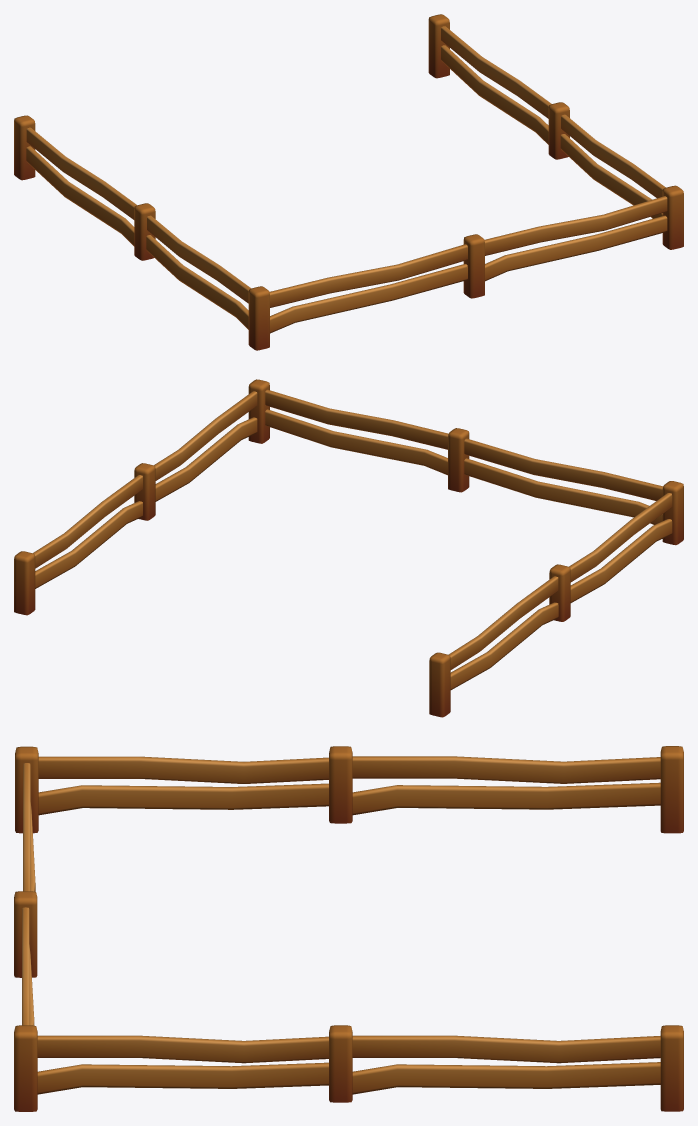
File: Forest_Cerca.fbx
3 views of the same model, one above another, from view 1: azimuth 30°, elevation 25°; view 2: azimuth 150°, elevation 25°; view 3: azimuth 270°, elevation 25° (orthographic). The views are drawn at different scales.
Visible parts, largest first — view 1: Cube.010; view 2: Cube.010; view 3: Cube.010.
Boxes of the visible parts, bbox=[...] form: Cube.010: bbox=[14, 14, 683, 350]; Cube.010: bbox=[14, 379, 683, 717]; Cube.010: bbox=[14, 746, 683, 1111].
Bounding box in the file's own units: 1007 × 128 × 986.
